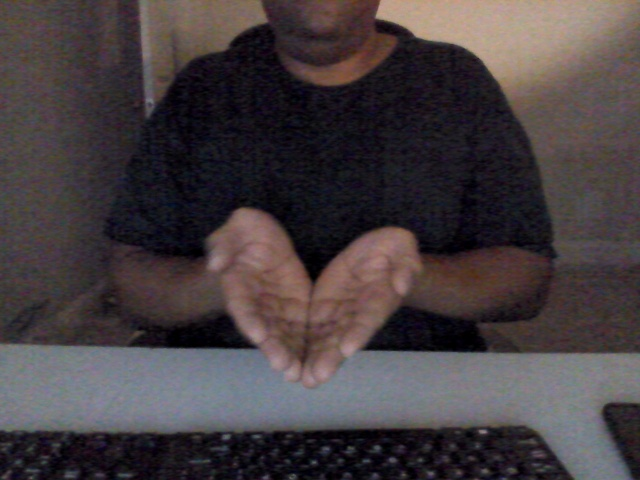book: (190, 202, 425, 386)
